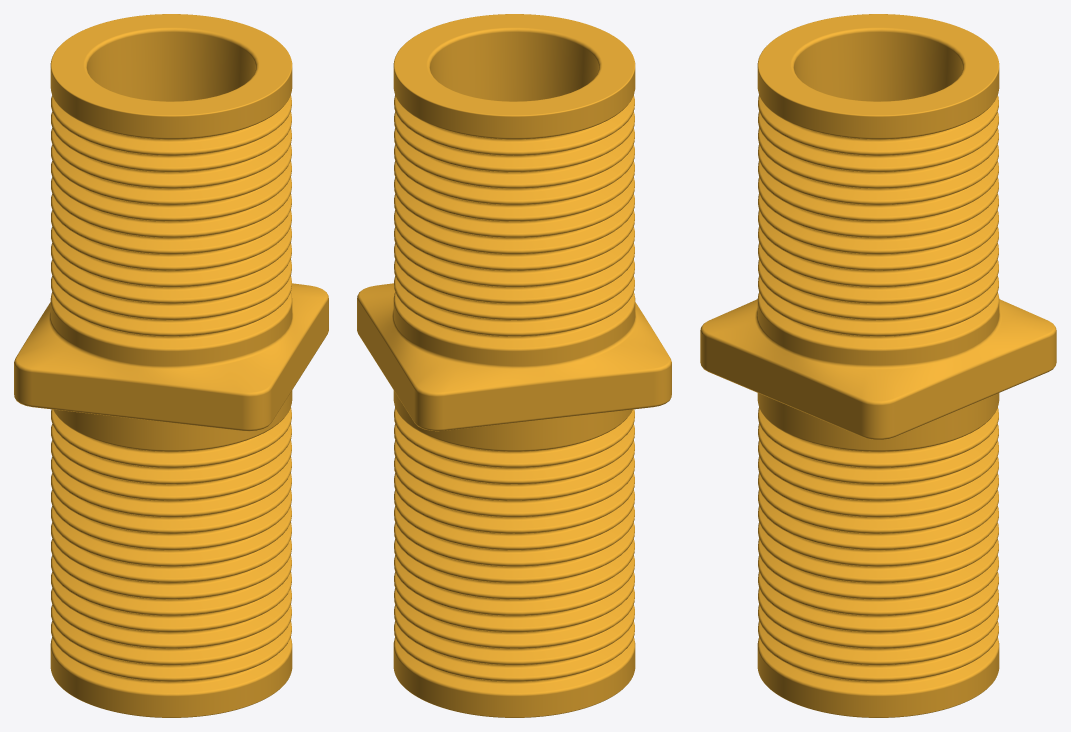
The model's file is 04.16_izolyator-prokhodnoy-ip-35-200x550.glb.
3 renders of one model, left to right at view 1: azimuth 30°, elevation 25°; view 2: azimuth 150°, elevation 25°; view 3: azimuth 270°, elevation 25°, orthographic.
Visible parts, largest first — view 1: 04.16_izolyator-prokhodnoy-ip-35-200x550; view 2: 04.16_izolyator-prokhodnoy-ip-35-200x550; view 3: 04.16_izolyator-prokhodnoy-ip-35-200x550.
Boxes of the visible parts, x1,y1,x2,y2 form: 04.16_izolyator-prokhodnoy-ip-35-200x550: (14, 14, 328, 717); 04.16_izolyator-prokhodnoy-ip-35-200x550: (357, 14, 671, 717); 04.16_izolyator-prokhodnoy-ip-35-200x550: (700, 14, 1056, 717).
Size of the model in its own units: 0.2945 by 0.55 by 0.2945.
